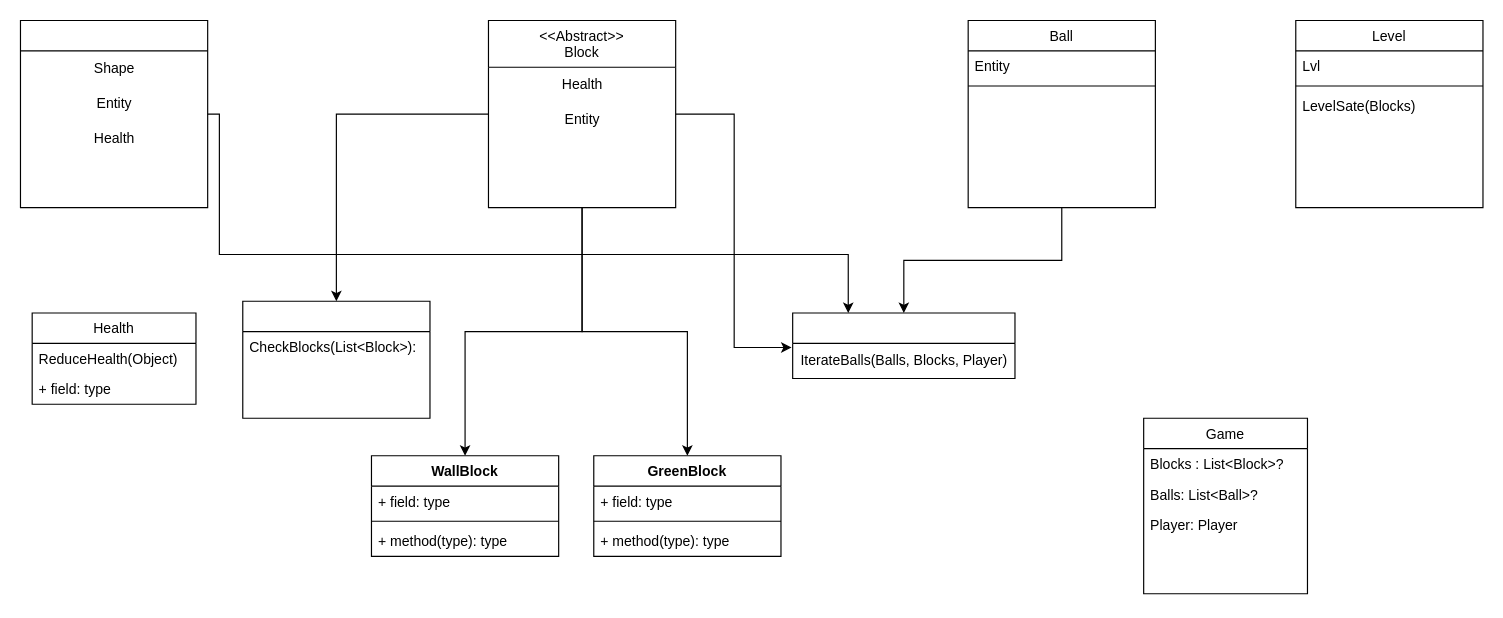
Some shapes in this 1503 by 618 pixel diagram are drawn without their labels. Each missing label, with the box of its shape:
BallHandler: (792, 312, 1015, 378)
BlockHandler: (242, 300, 430, 418)
Player: (19, 19, 208, 208)
